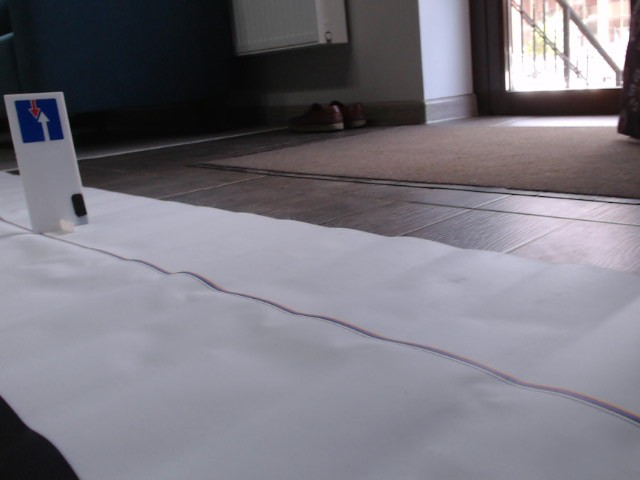priority_movement: (12, 97, 66, 143)
